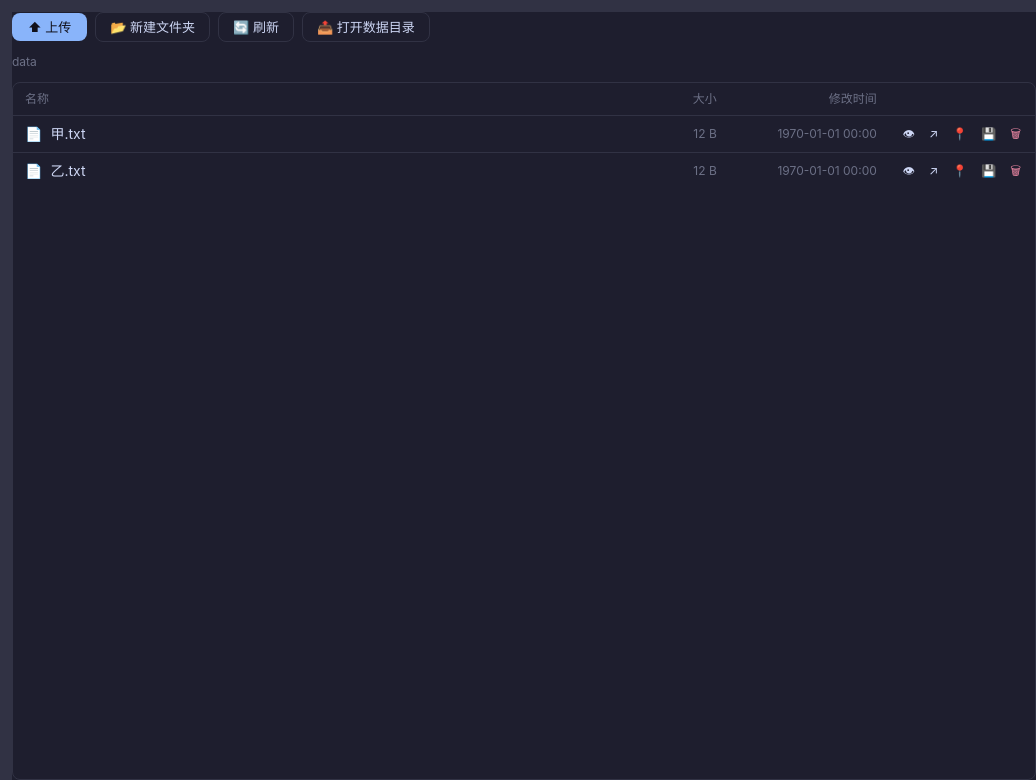
§332 F1 四颗「在系统里打开」：失败回的是 resolve 的 {ok:false} ⇒ 必须各说一句 › 行内 ↗ 那颗：失败有一句（改前只有 .catch＝safeHandle 的失败永远进不去）
Expected: the text "甲.txt" is shown, [50,124,86,144]
What coordinates should you click on to do the following:
click the button titled "打开" in the row of "甲.txt"
I would click on:
 (934, 134)
Its box is [923,122,944,146].
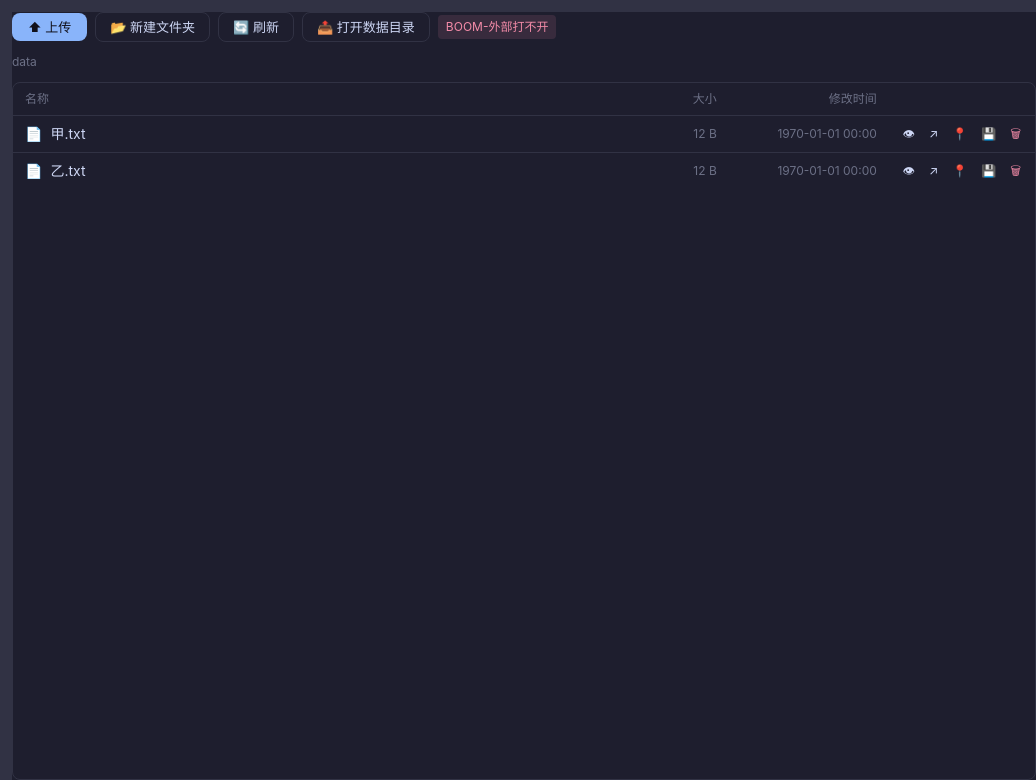
Expected: the text "BOOM-外部打不开" is shown, [438,15,556,39]
